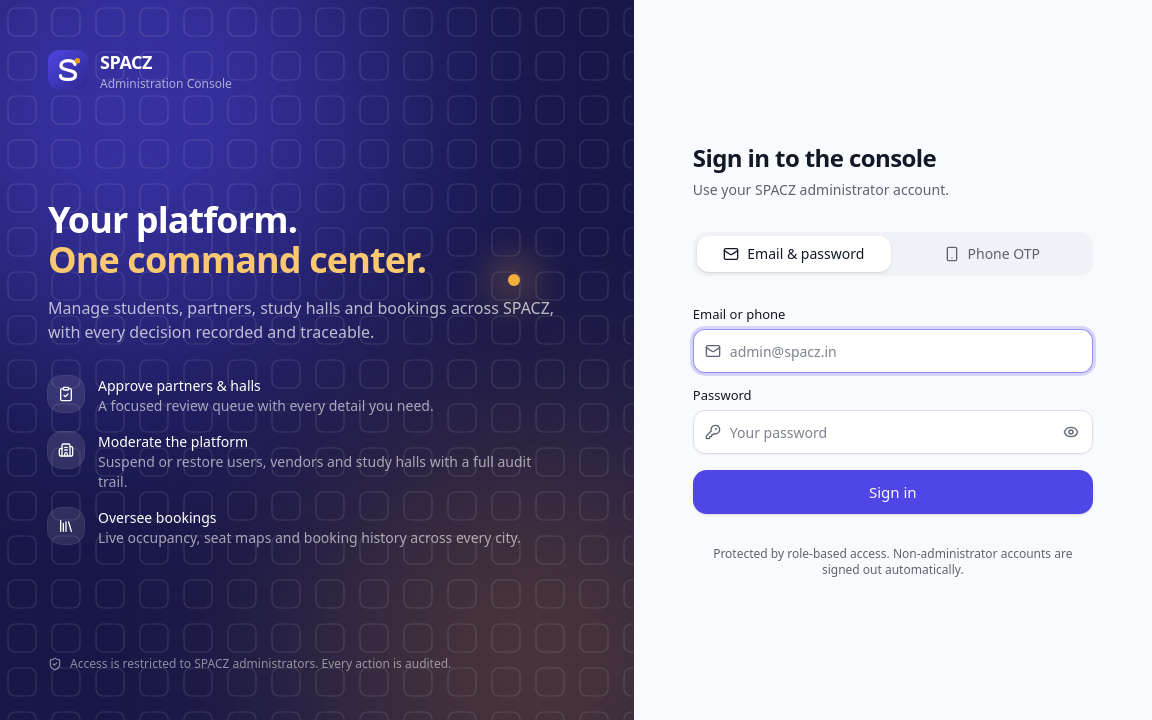
Test: Login › shows a clear message for invalid credentials and clears the password
Type "priya@spacz.in" into the field labelled "Email or phone" at (893, 351), box x1=693 y1=329 x2=1093 y2=373
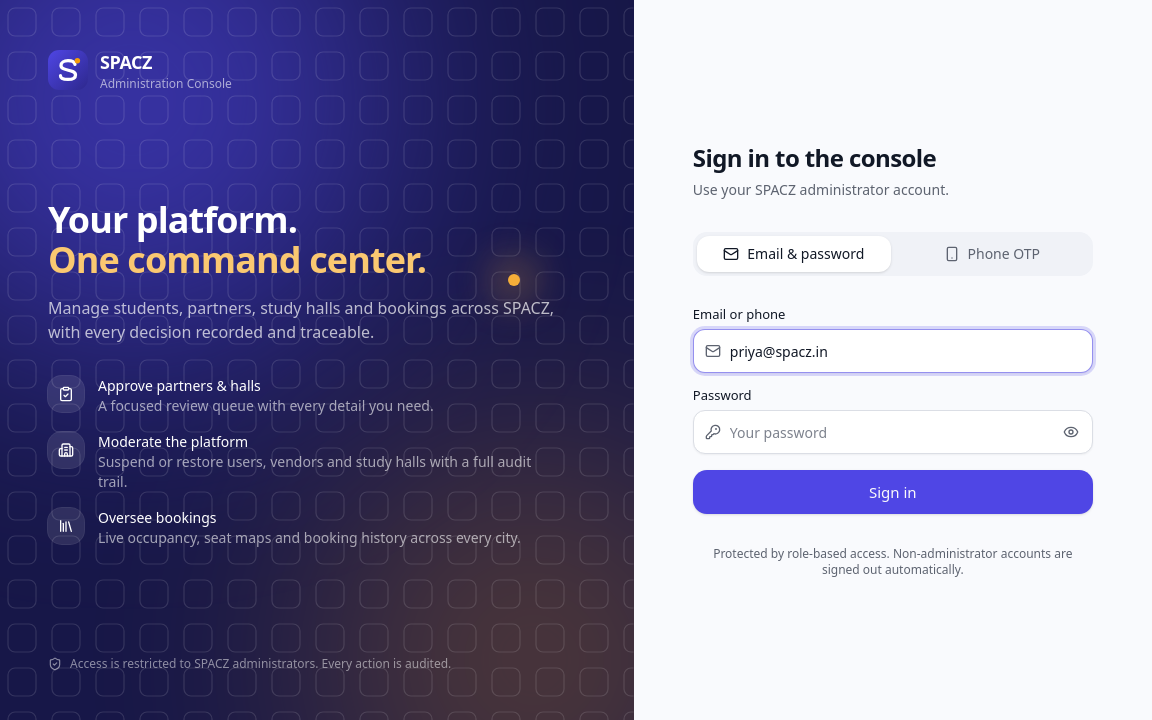
Type "secret123" into the password field labelled "Password" at (893, 432), box x1=693 y1=410 x2=1093 y2=454
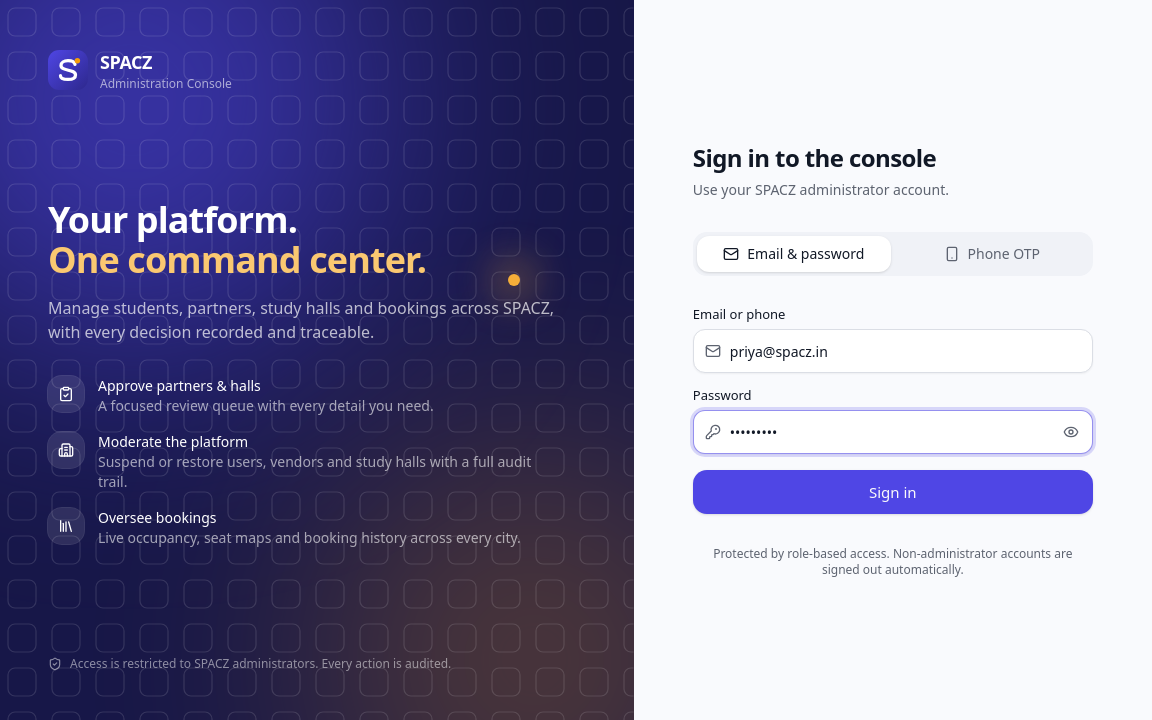
Click the button "Sign in" at (893, 492), box x1=693 y1=470 x2=1093 y2=514
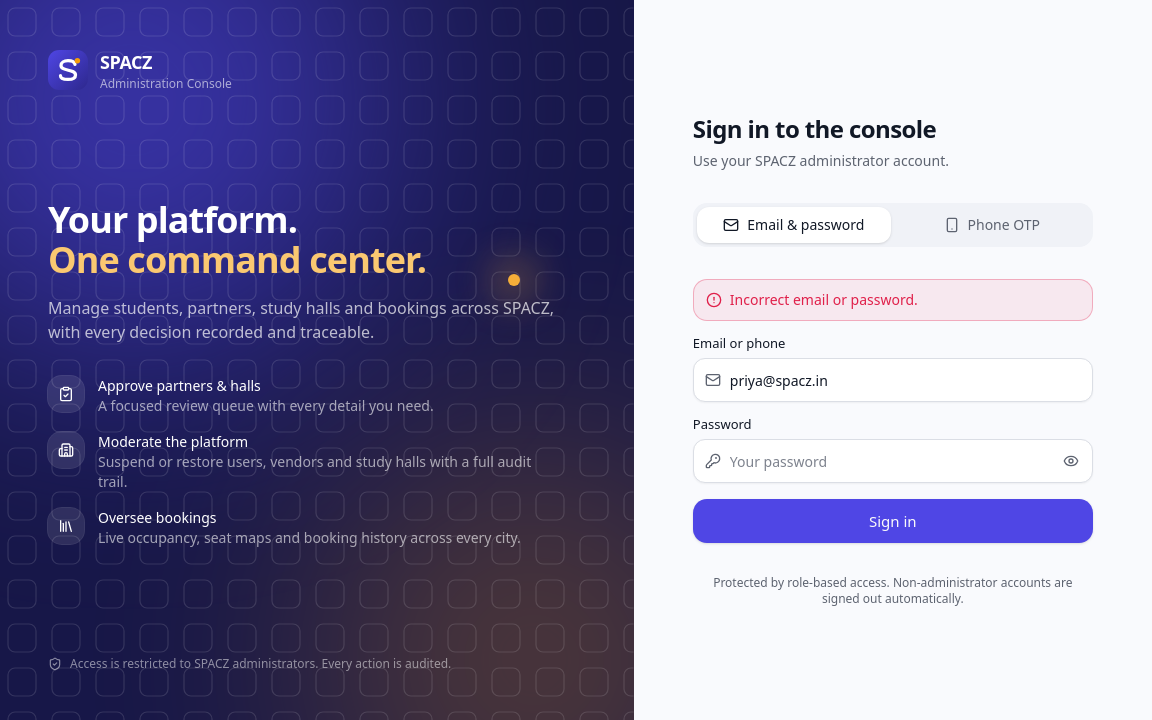
Now the message reads "Incorrect email or password.", box x1=730 y1=290 x2=918 y2=309
Now the password field labelled "Password" is empty, box x1=693 y1=439 x2=1093 y2=483
